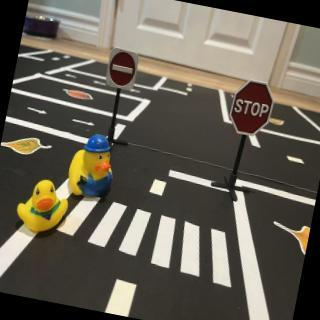duck_regular: (13, 177, 74, 241)
duck_specialty: (64, 131, 121, 205)
road_crosswalk: (49, 191, 249, 293)
road_oneway: (70, 116, 98, 130), (25, 106, 49, 117), (90, 77, 110, 90), (64, 72, 80, 81), (127, 87, 142, 96)
sign_noentry: (104, 48, 141, 93)
sign_stop: (226, 78, 278, 141)
